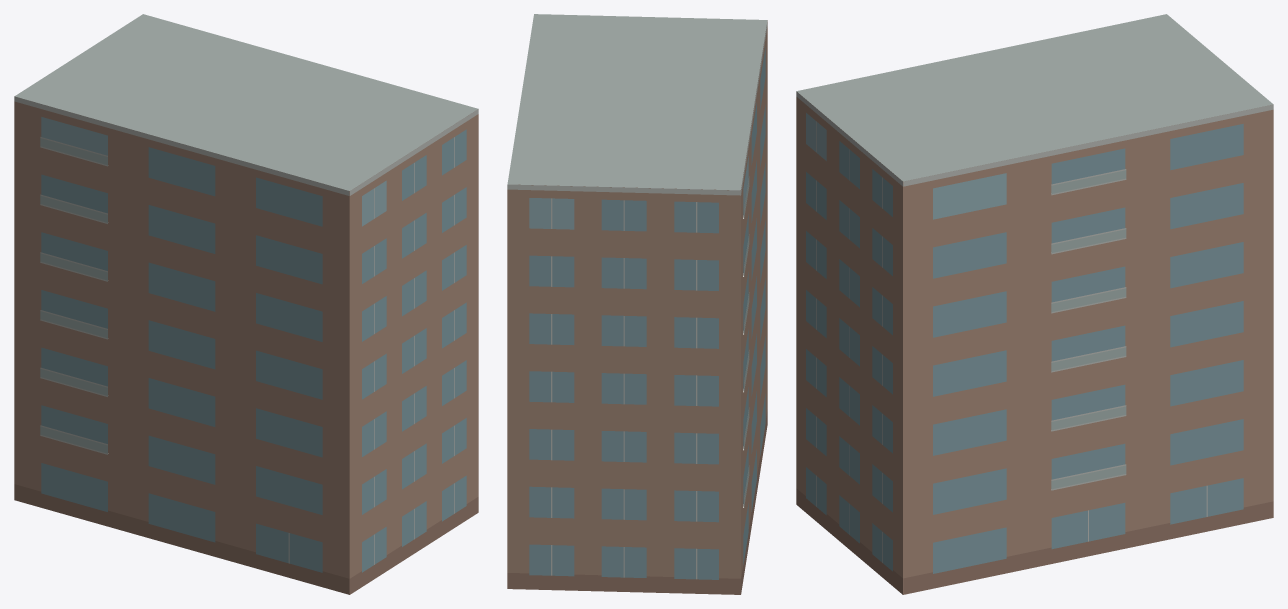
File: survey-upis-32724290.glb
The picture shows the model from 3 angles, left to right: view 1: azimuth 30°, elevation 25°; view 2: azimuth 150°, elevation 25°; view 3: azimuth 270°, elevation 25°; orthographic projection. The views are drawn at different scales.
Parts seen in each view (by area): view 1: survey-upis-32724290.tmp; view 2: survey-upis-32724290.tmp; view 3: survey-upis-32724290.tmp.
Part boxes in pixels (x1=…): survey-upis-32724290.tmp: x1=14, y1=14, x2=478, y2=594; survey-upis-32724290.tmp: x1=507, y1=14, x2=767, y2=594; survey-upis-32724290.tmp: x1=796, y1=14, x2=1273, y2=594.
Size of the model in its own units: 16.87 by 19.4 by 20.31.
